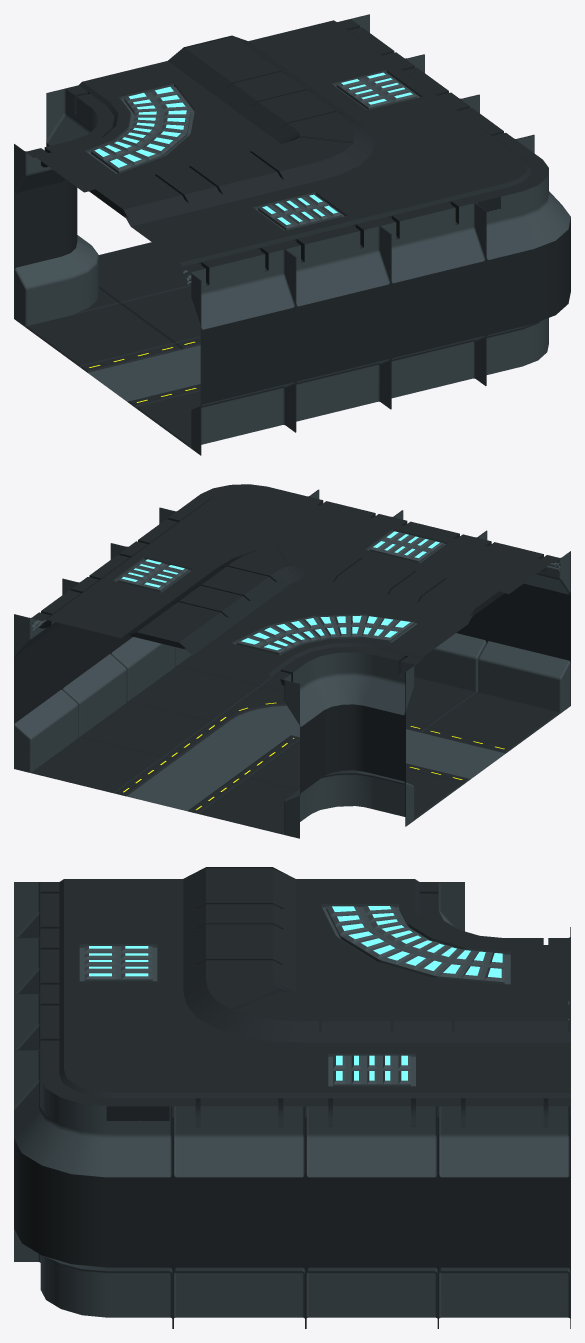
File: hallway90.fbx
3 renders of one model, top to bottom at view 1: azimuth 30°, elevation 25°; view 2: azimuth 150°, elevation 25°; view 3: azimuth 270°, elevation 25°, orthographic. The views are drawn at different scales.
Visible parts, largest first — view 1: hallway90; view 2: hallway90; view 3: hallway90.
Part boxes in pixels (x1,y1,x2,y2): hallway90: (14,14,570,455); hallway90: (14,484,570,838); hallway90: (14,867,570,1328).
Size of what is drawn, in the model's own units: 8.4 by 8.4 by 3.77.
